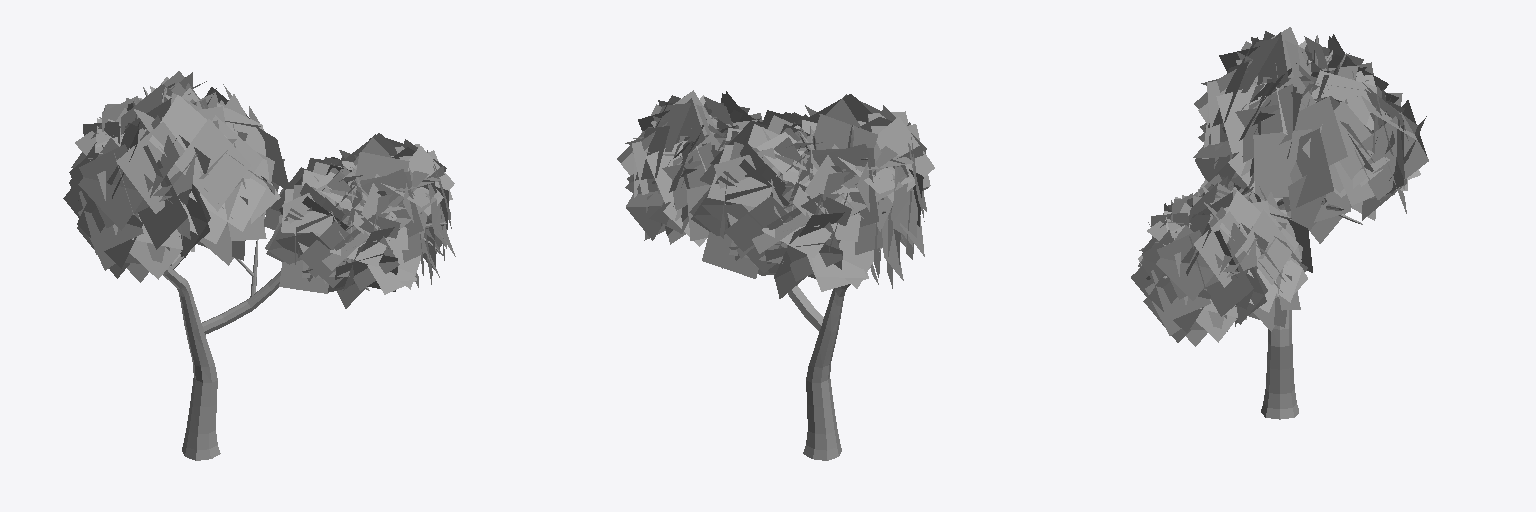
File: MapleTree_1.obj
3 views of the same model, side by side, from view 1: azimuth 30°, elevation 25°; view 2: azimuth 150°, elevation 25°; view 3: azimuth 270°, elevation 25° (orthographic).
Visible parts, largest first — view 1: MapleTree_1_Cube.005; view 2: MapleTree_1_Cube.005; view 3: MapleTree_1_Cube.005.
Part boxes in pixels (x1,y1,x2,y2): MapleTree_1_Cube.005: (63,71,455,460); MapleTree_1_Cube.005: (617,90,934,460); MapleTree_1_Cube.005: (1131,27,1428,419).
Size of the model in its own units: 6.23 by 6.64 by 4.9.